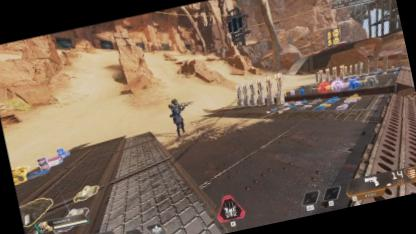Target: (166, 96, 188, 137)
